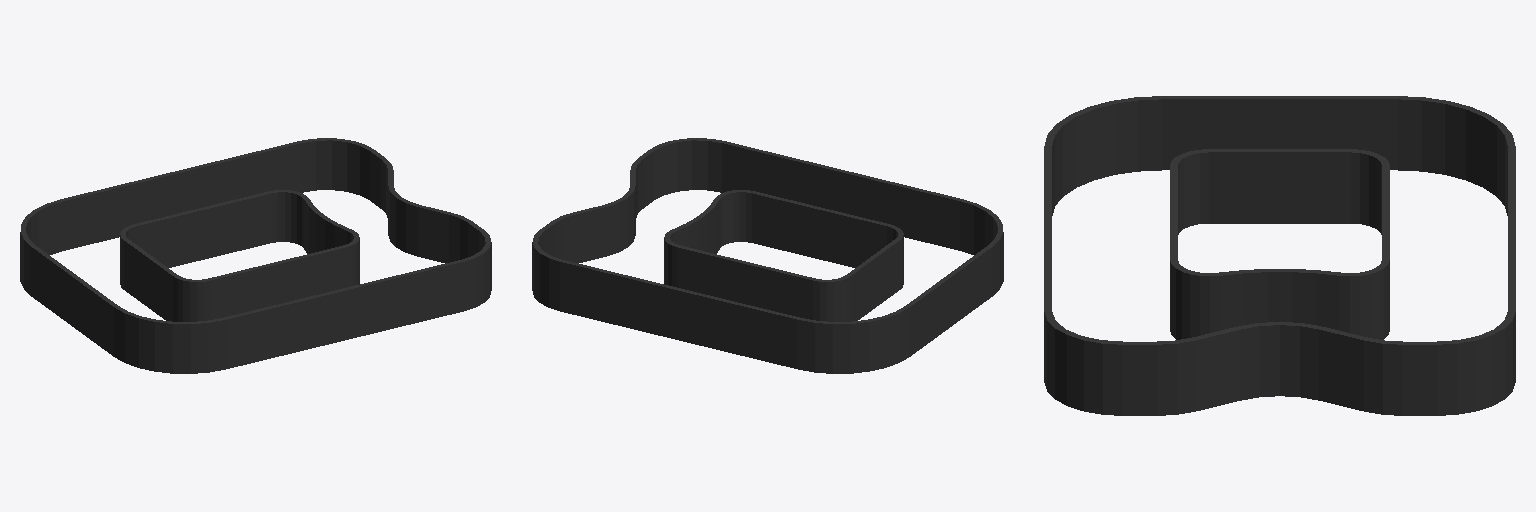
The robot description file, URDF, robot "road":
<?xml version="1.0" encoding="utf-8"?>
<!-- This URDF was automatically created by SolidWorks to URDF Exporter! Originally created by [author] ([email redacted]) 
     Commit Version: 1.6.0-4-g7f85cfe  Build Version: 1.6.7995.38578
     For more information, please see http://wiki.ros.org/sw_urdf_exporter -->
<robot
  name="road">
  <link
    name="base_link">
    <inertial>
      <origin
        xyz="0.0743654705140066 0.01 -0.0599999999999999"
        rpy="0 0 0" />
      <mass
        value="0.0301428898018635" />
      <inertia
        ixx="5.26953286344725E-05"
        ixy="5.39131577214435E-21"
        ixz="-1.49919125806211E-19"
        iyy="0.000123042567669653"
        iyz="-2.34371984631418E-21"
        izz="7.23567650219713E-05" />
    </inertial>
    <visual>
      <origin
        xyz="0 0 0"
        rpy="0 0 0" />
      <geometry>
        <mesh
          filename="package://road/meshes/base_link.STL" />
      </geometry>
      <material
        name="">
        <color
          rgba="0.250980392156863 0.250980392156863 0.250980392156863 1" />
      </material>
    </visual>
    <collision>
      <origin
        xyz="0 0 0"
        rpy="0 0 0" />
      <geometry>
        <mesh
          filename="package://road/meshes/base_link.STL" />
      </geometry>
    </collision>
  </link>
</robot>

--- Render facts (derived) ---
Views: 3 orthographic renders of the robot side by side, from view 1: azimuth 30°, elevation 25°; view 2: azimuth 150°, elevation 25°; view 3: azimuth 270°, elevation 25°.
Robot: road — 1 links, 0 joints (none); root link base_link; default pose: every joint at zero.
Links seen in each view (by area): view 1: base_link; view 2: base_link; view 3: base_link.
Link boxes in pixels (x1,y1,x2,y2): base_link: [20, 138, 491, 373]; base_link: [532, 138, 1003, 373]; base_link: [1044, 96, 1515, 415].
Size in the robot's own frame: 0.15 by 0.12 by 0.02 metres.
1 mesh visuals loaded from 1 distinct referenced files (1 binary STL).